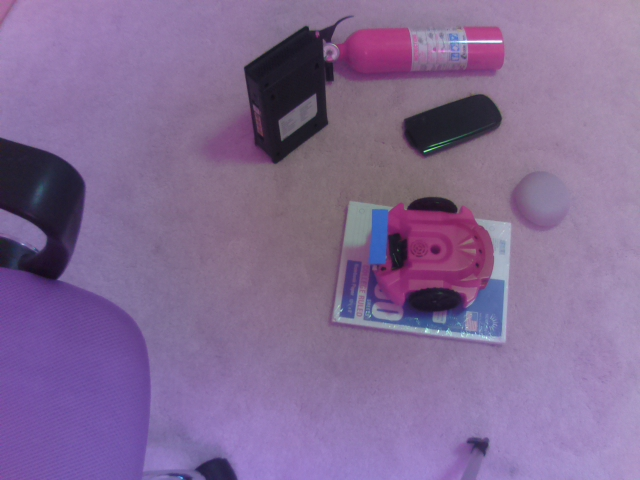board: (367, 209, 393, 274)
chassis: (363, 187, 494, 317)
